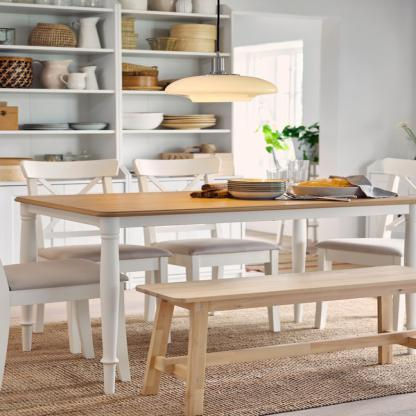chair: (135, 155, 289, 339), (17, 158, 171, 277), (314, 158, 416, 333), (0, 257, 132, 386)
